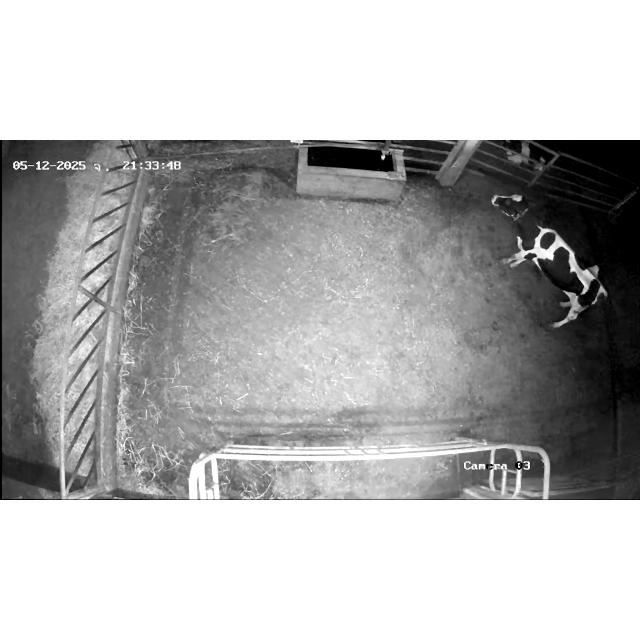stand: (475, 187, 615, 336)
